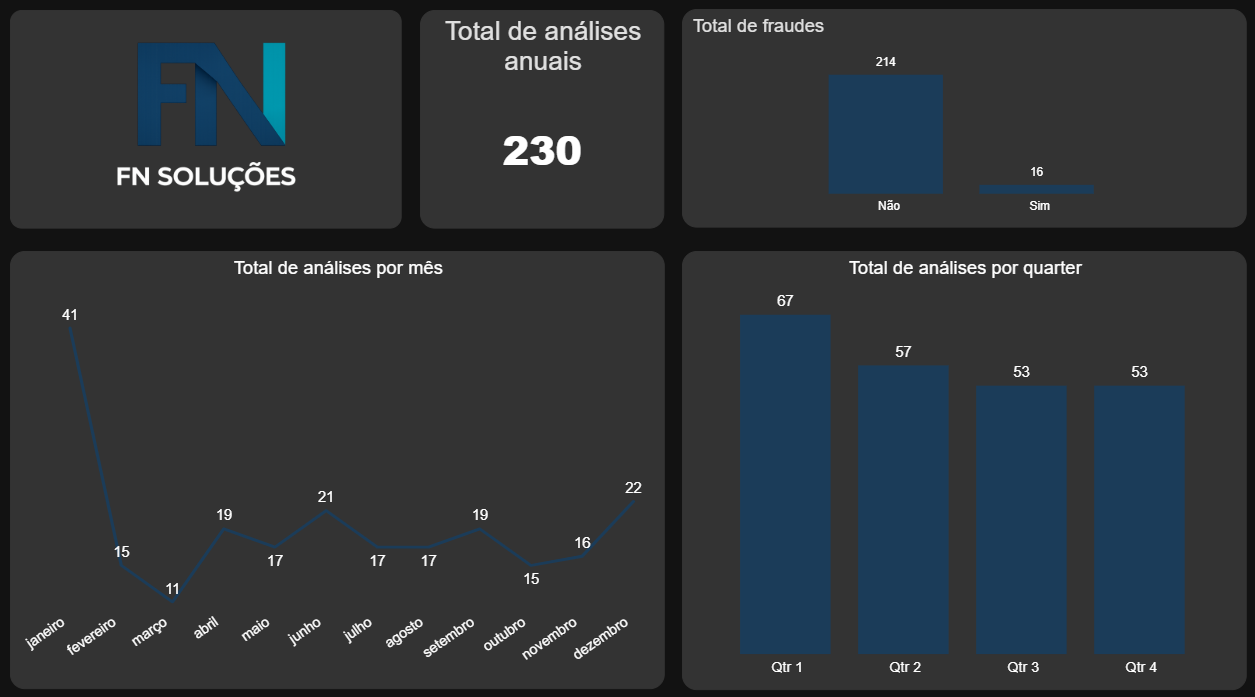

The dashboard page shown, as its layout file describes it:
{"tool":"powerbi","page":{"name":"Visão temporal","canvas":[1280,720],"ordinal":3},"visuals":[{"type":"lineChart","title":"Total de análises por mês","fields":{"Category":["dados_analise_credito_tratados.data_atualizacao.Variation.Hierarquia de datas.Mês"],"Y":["Count(dados_analise_credito_tratados.id_analise_de_credito)"]},"box":[18,259,662,443],"z":0},{"type":"card","title":"Total de análises anuais","fields":{"Values":["Count(dados_analise_credito_tratados.id_analise_de_credito)"]},"box":[433,15,247,221],"z":1000},{"type":"clusteredColumnChart","title":"Total de análises por quarter","fields":{"Category":["dados_analise_credito_tratados.data_atualizacao.Variation.Hierarquia de datas.Trimestre"],"Y":["Count(dados_analise_credito_tratados.id_analise_de_credito)"]},"box":[697.4,258.7,570.9,443.5],"z":2000},{"type":"image","box":[18,15,396,221],"z":3000},{"type":"clusteredColumnChart","title":"Total de fraudes","fields":{"Category":["dados_analise_credito_tratados.traducao_flag_fraude"],"Y":["Count(dados_analise_credito_tratados.id_analise_de_credito)"]},"box":[697.4,14.6,570.9,220.8],"z":4000}]}

Visuals, with their boxes in screenshot pixels (x1, y1, x2, y2), scaled from the page's 1280x720 canvas onto the 1255x697 screenshot:
"Total de análises por mês" lineChart: locate(18, 251, 667, 680)
"Total de análises anuais" card: locate(425, 15, 667, 228)
"Total de análises por quarter" clusteredColumnChart: locate(684, 250, 1244, 680)
image: locate(18, 15, 406, 228)
"Total de fraudes" clusteredColumnChart: locate(684, 14, 1244, 228)
